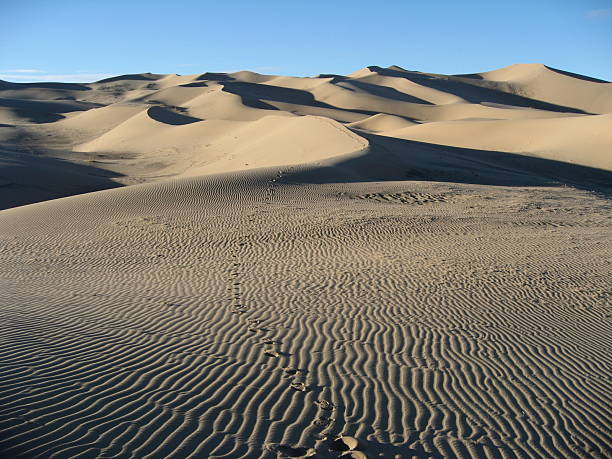human_footprint: (220, 213, 358, 452)
